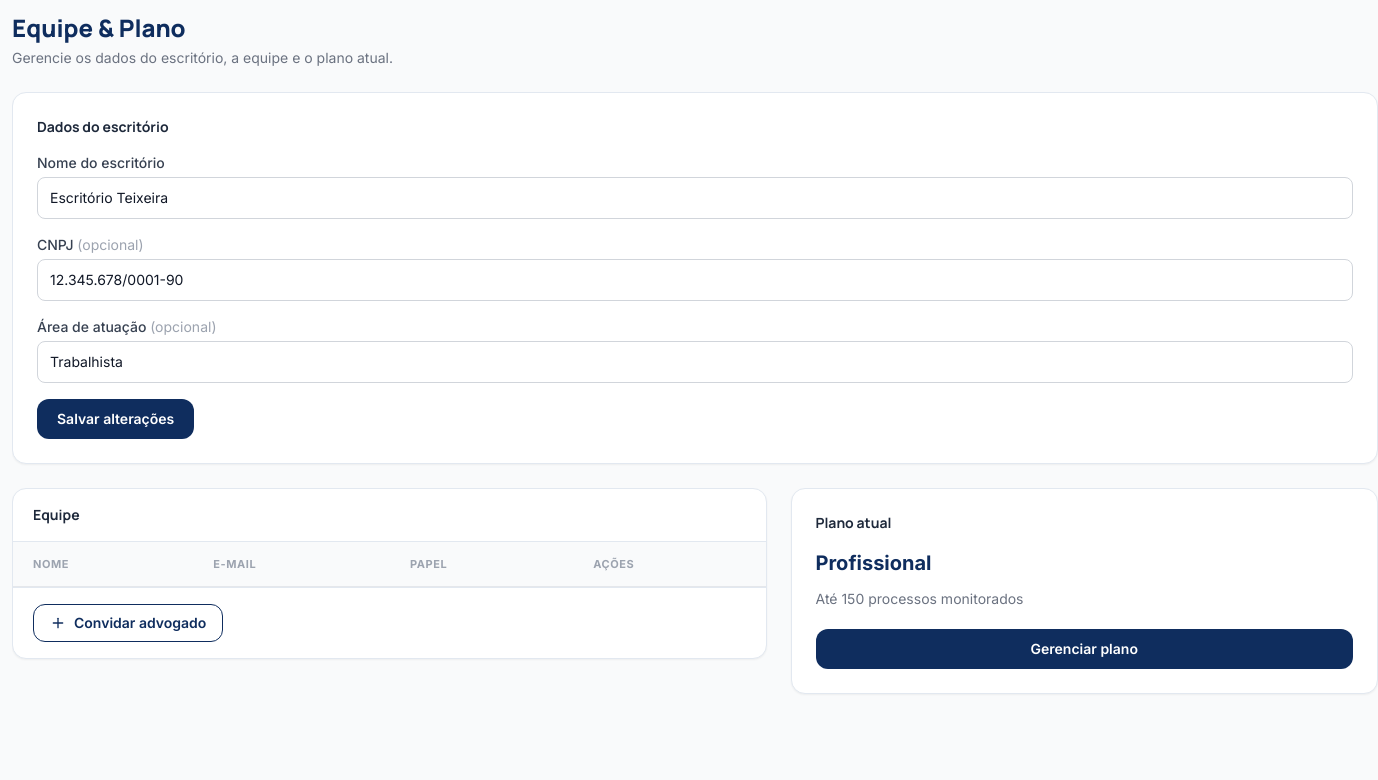
Test case: EscritorioClient — Dados do escritório › exibe mensagem de erro quando o PATCH falha
Click the button "Salvar alterações" at (116, 419), box [37,399,194,439]
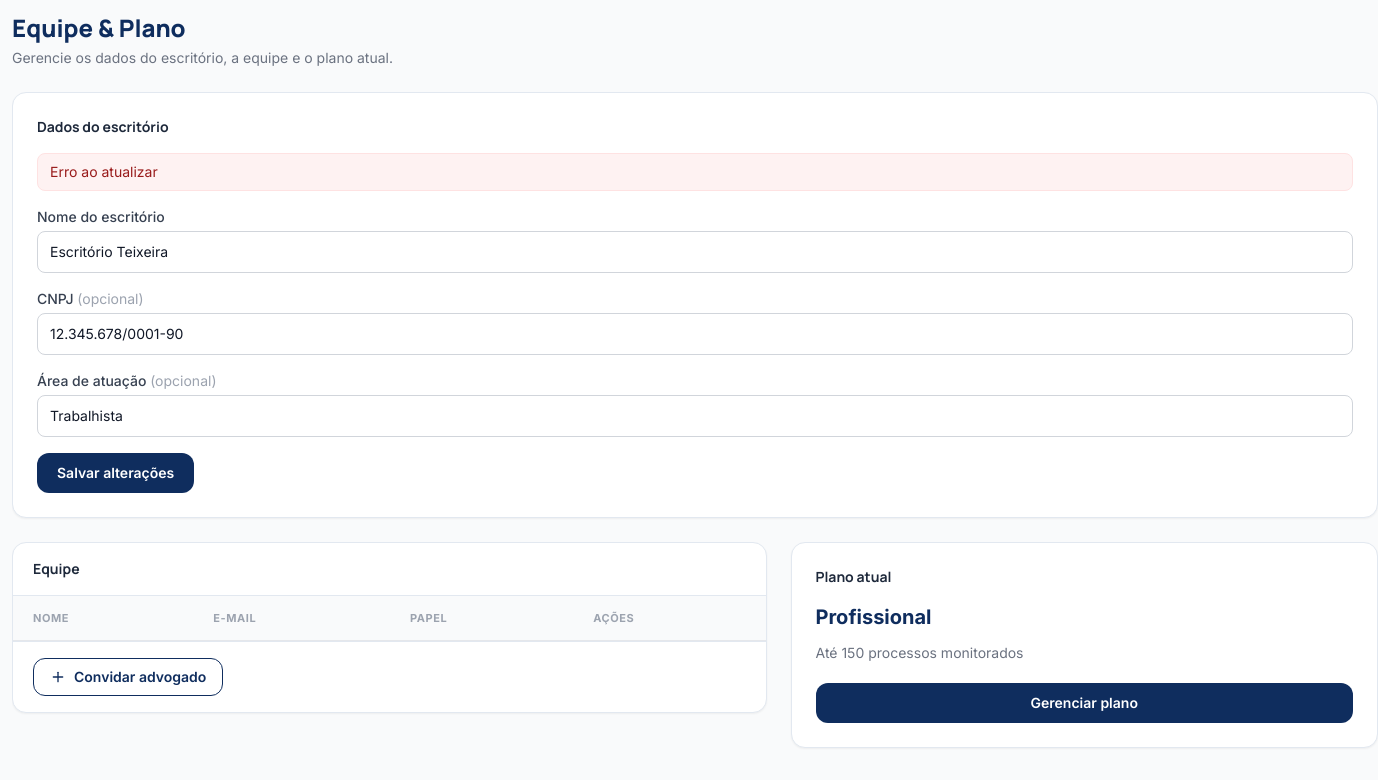
Result: the text "Erro ao atualizar" is shown at [37,153,1353,191]
